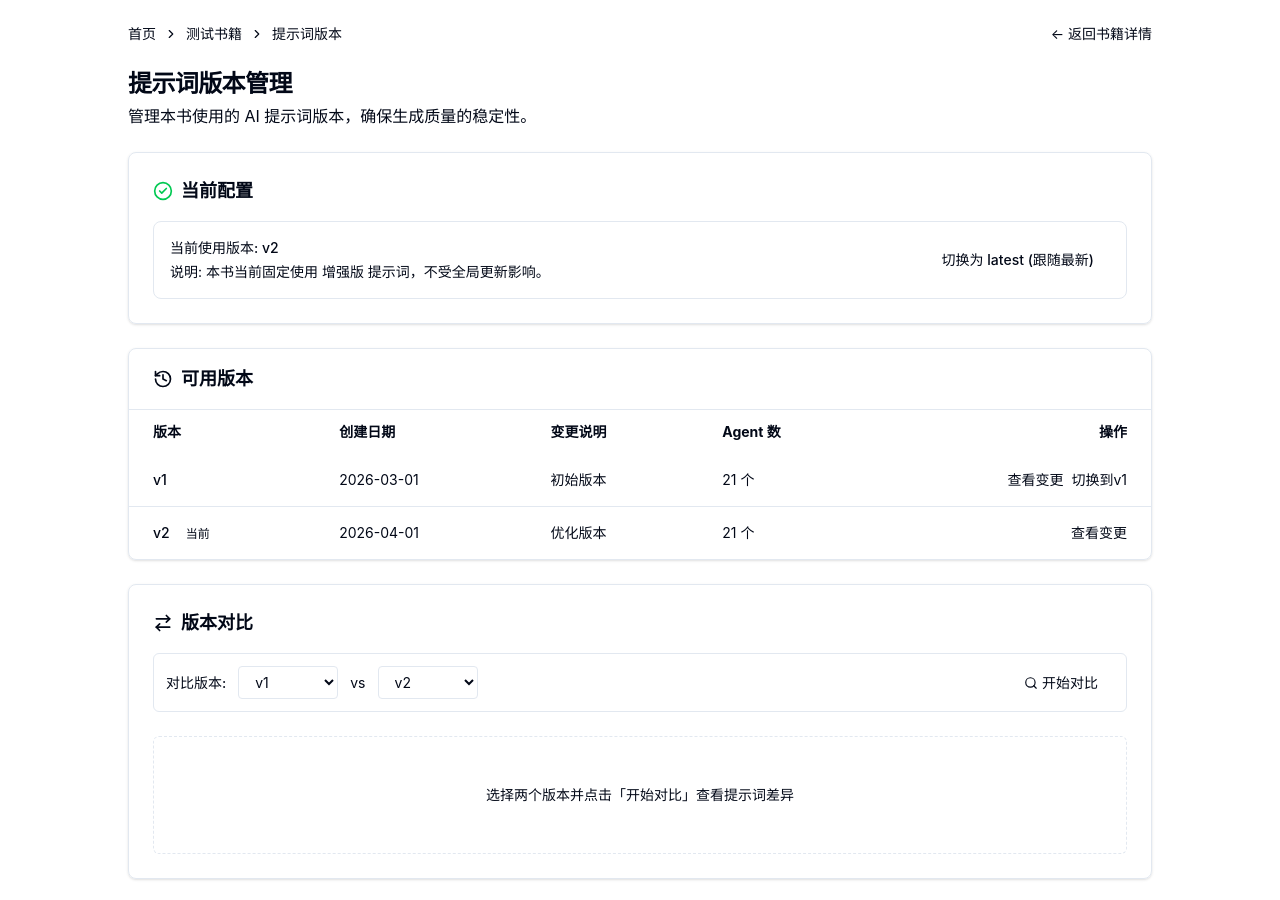
PromptVersionView › handles version comparison
What coordinates should you click on to do the following:
click the button "开始对比"
I would click on:
 (1061, 682)
Its box is [1008,666,1114,698].
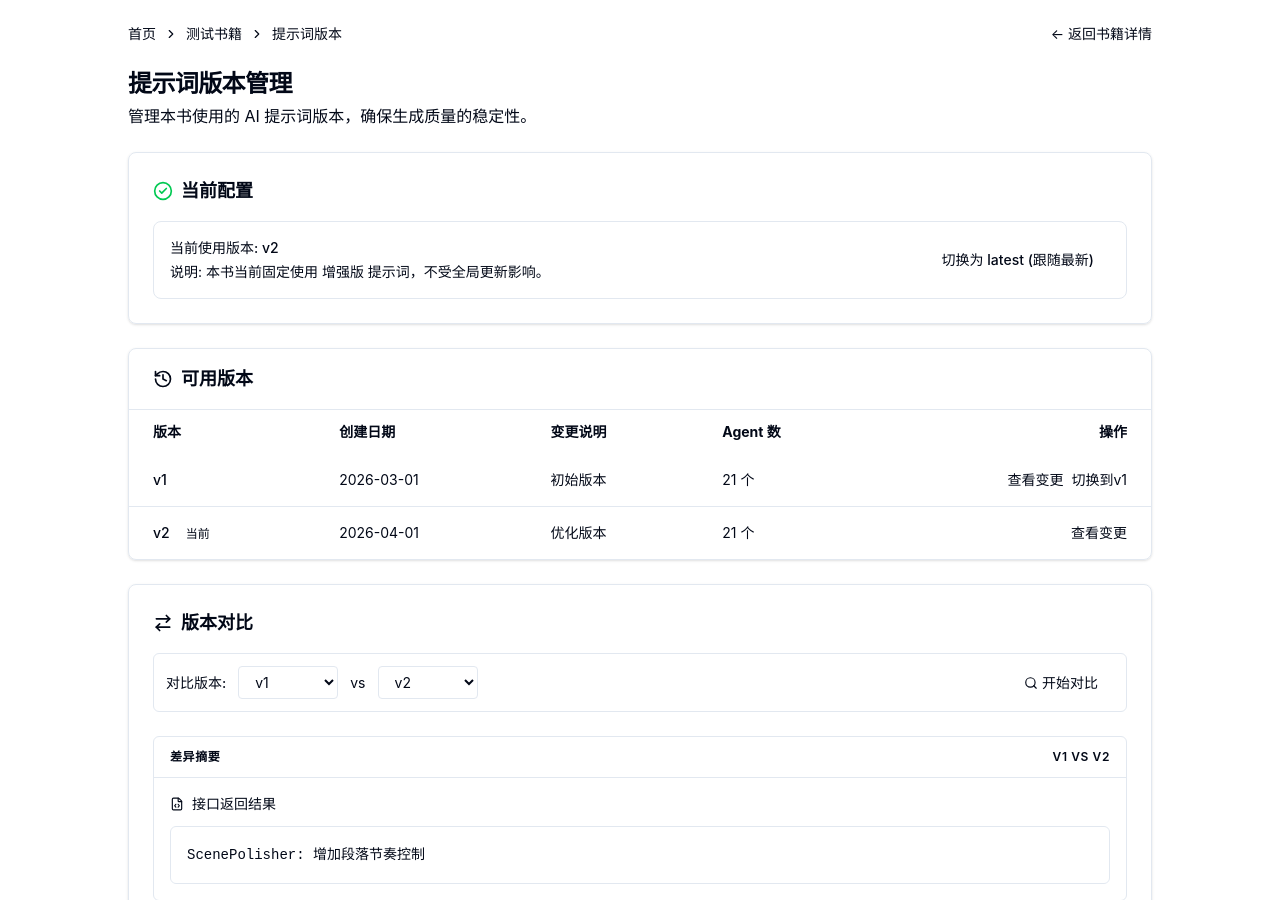
Now the text "ScenePolisher: 增加段落节奏控制" is shown, box [170,826,1110,884]
